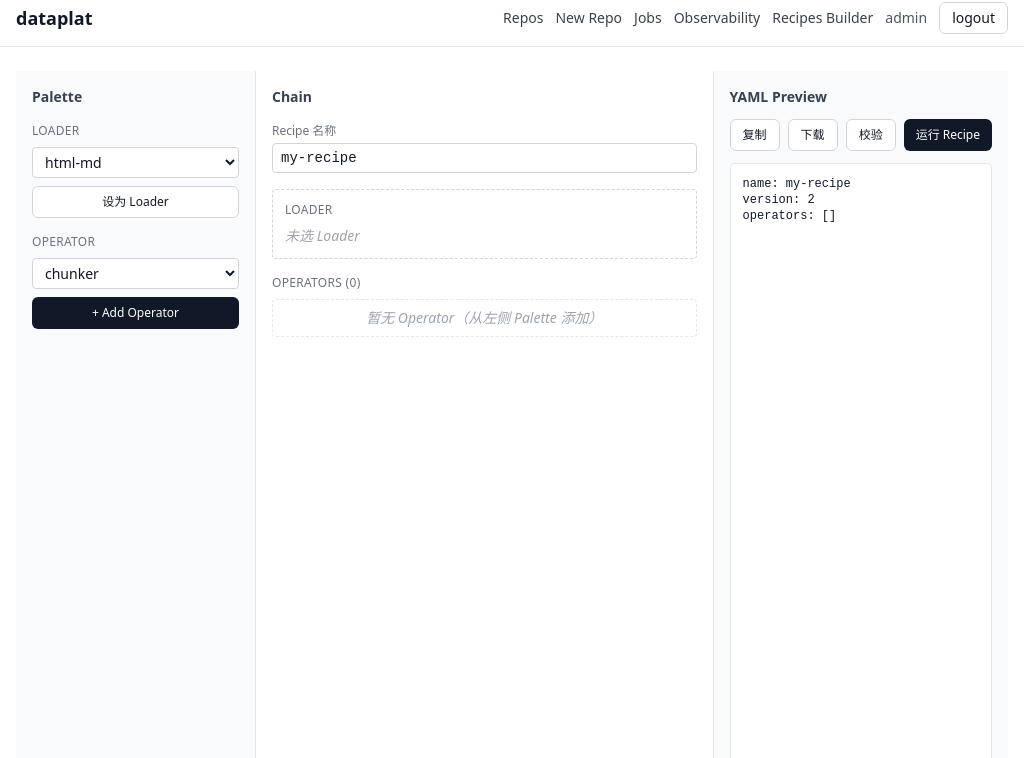
Test: /recipes/builder › yaml preview reflects loader and operator
// 选 loader "html-md"（第一个 LOADER_NAME）然后点"设为 Loader"
Select "html-md" in the dropdown with test id "loader-select" at (136, 162), box [32,147,239,178]
// 点"设为 Loader"按钮（按钮文本）
Click the button "设为 Loader".
click(136, 202)  # box [32,186,239,218]
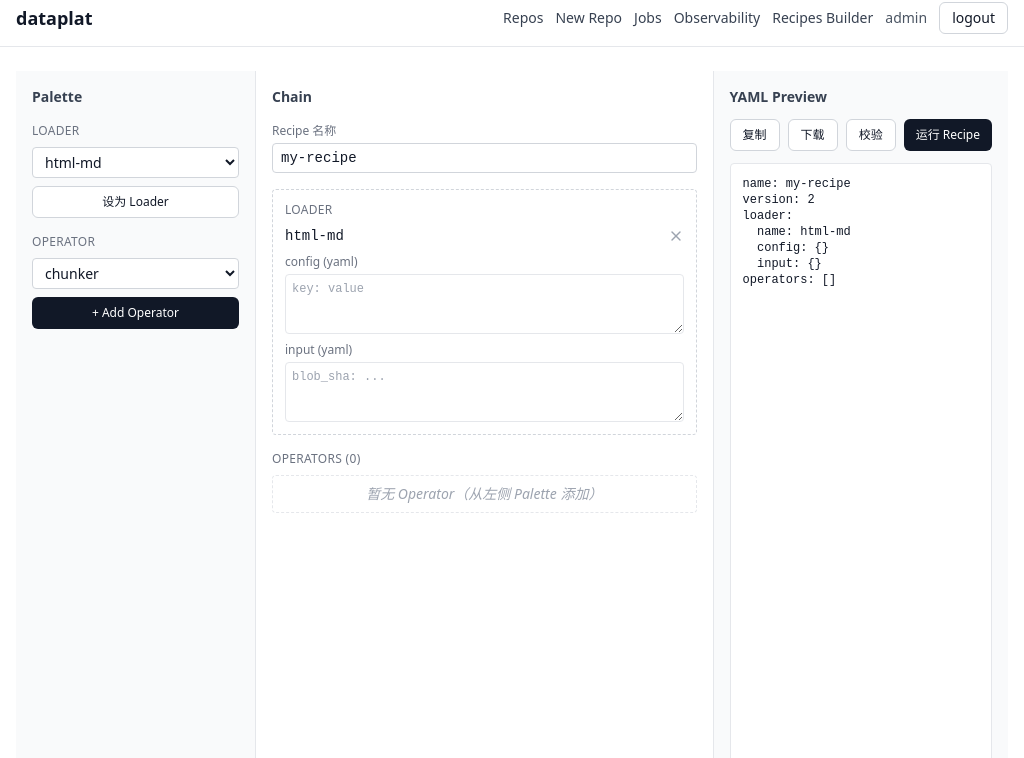
// 选 operator "chunker" 然后点 Add
Select "chunker" in the dropdown with test id "operator-select" at (136, 274), box [32,258,239,289]
Click the button with test id "operator-add".
click(136, 313)  # box [32,297,239,329]
(page scrolled)
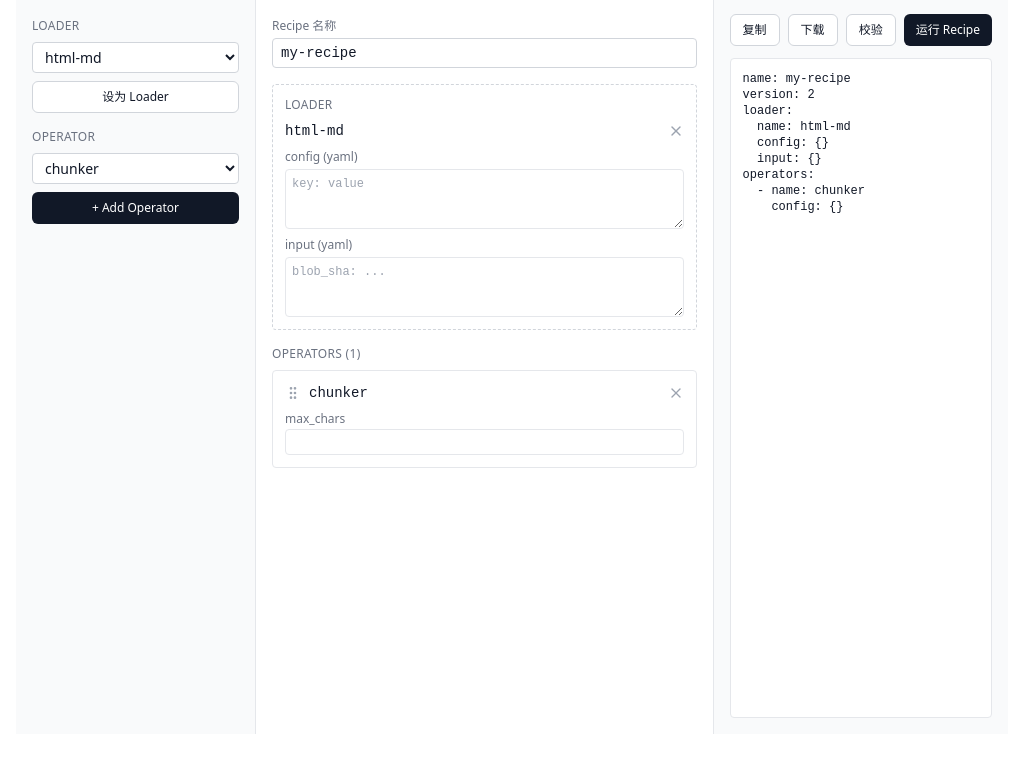
Check: the text with test id "yaml-preview" shows "name: html-md", box [743,72,865,214]
Check: the text with test id "yaml-preview" shows "name: chunker", box [743,72,865,214]
